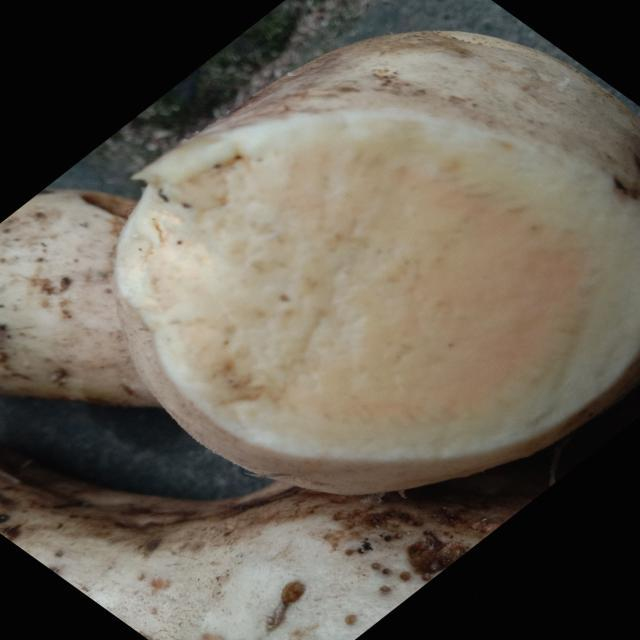Healthy Sweet Potato: (115, 111, 638, 494)
